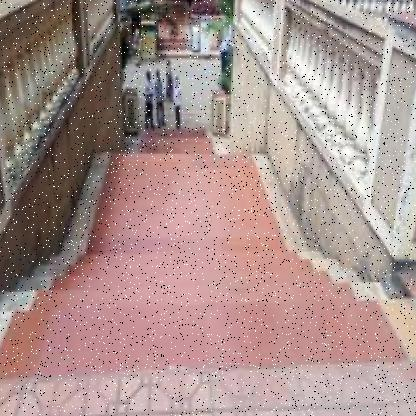stair_down: (50, 236, 322, 359)
